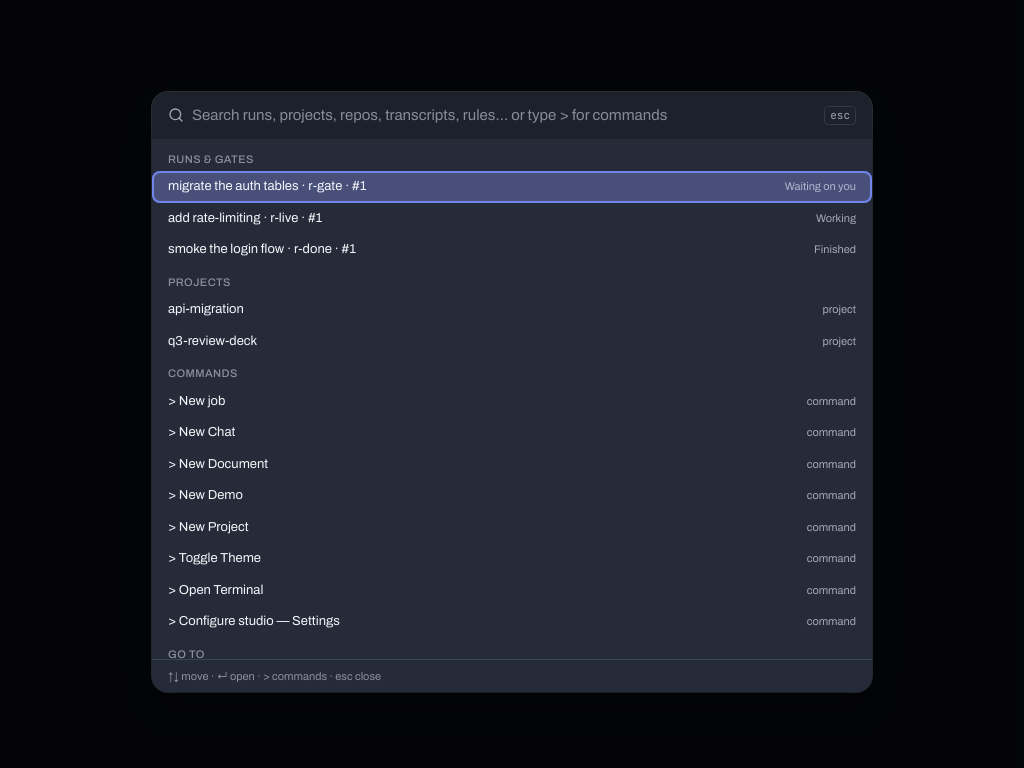
Test: corpus & prefixes (§1.3/§1.4) › fuzzy-filters within a scope: "p: q3" keeps only q3-review-deck
Replace the text in the dropdown with test id "palette-input" with "p: q3". click: (504, 115)
box: [192,104,816,127]
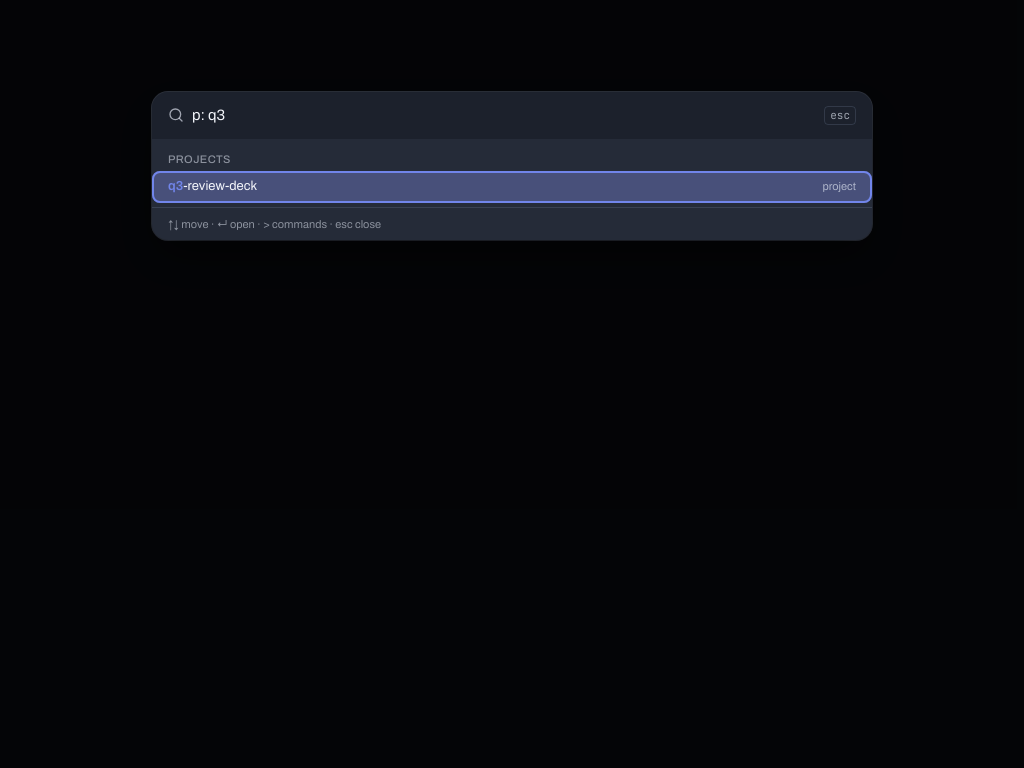
Check: the option with test id "palette-row" shows "q3-review-deck", box [152,171,872,203]
Check: the number of options with test id "palette-row" is 1, box [152,171,872,203]
